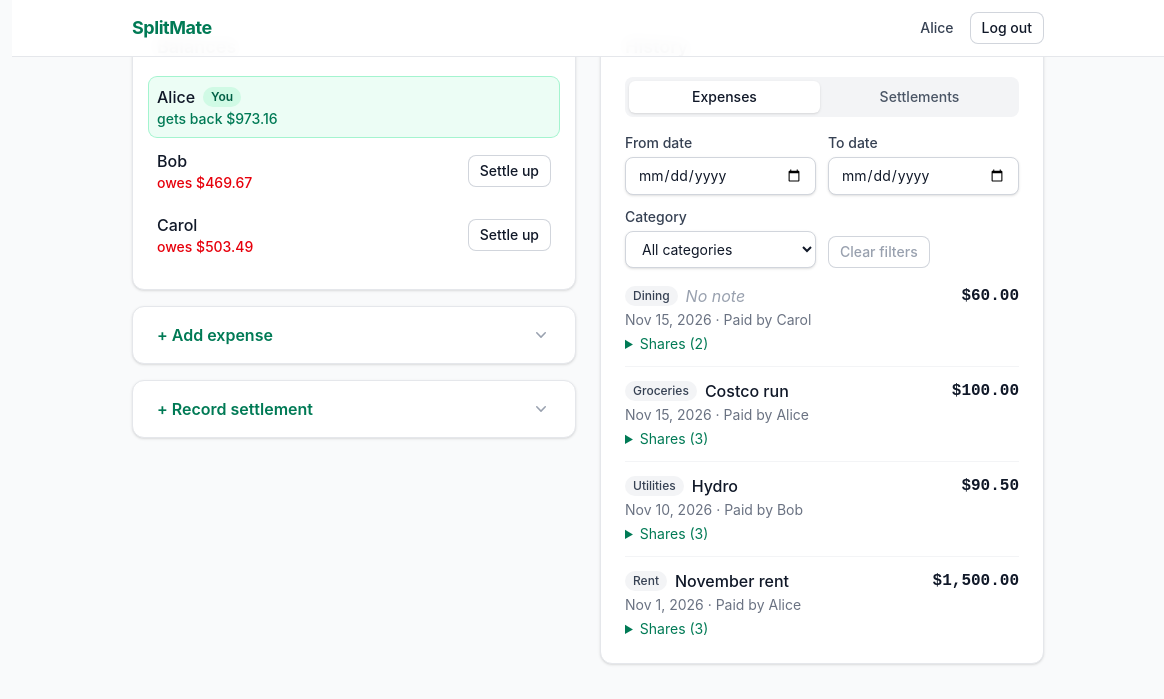
Test: Record settlement › validates the amount
(page scrolled)
expect the list named "expenses" is shown: met, box [625,284,1019,639]
Click the button "+ Record settlement" at (235, 409), box [133,381,575,437]
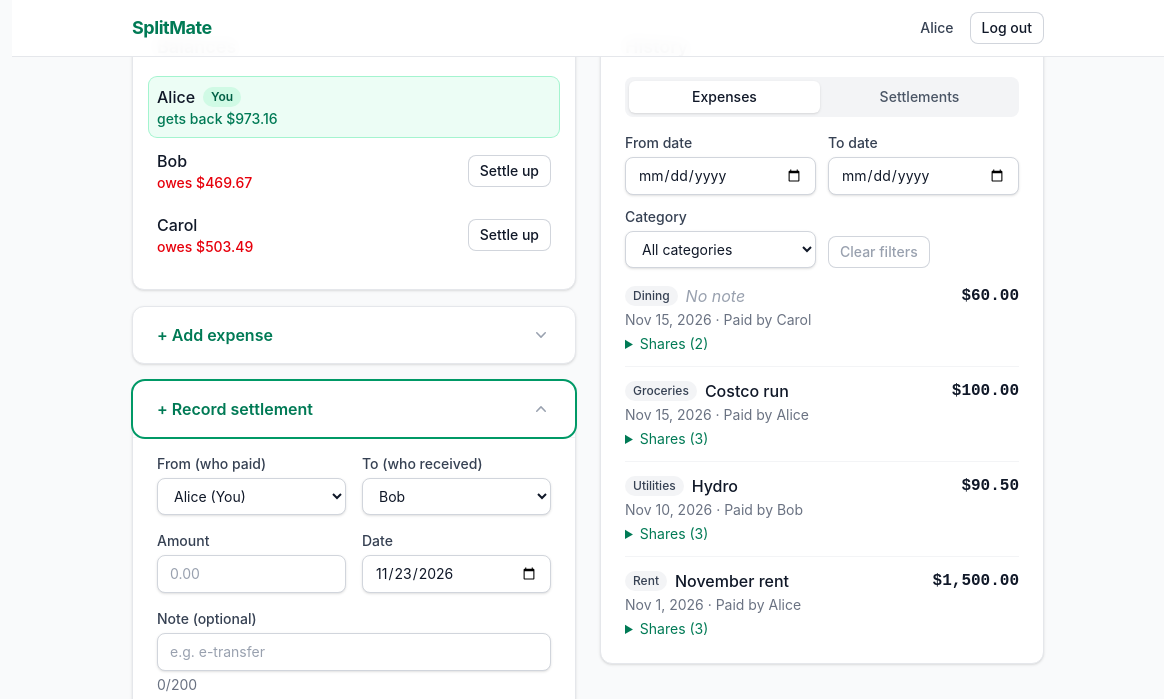
Type "0.001" into the field labelled "Amount" at (252, 574), box [157,555,346,593]
(page scrolled)
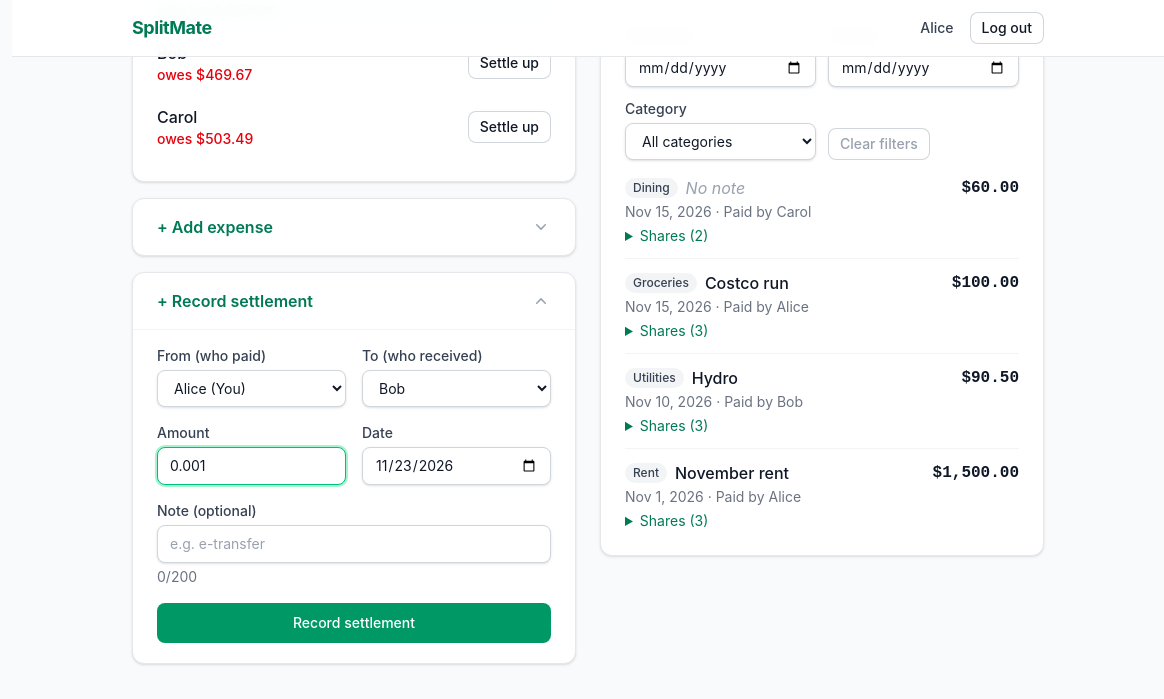
Click the button "Record settlement" at (354, 623), box [157,603,551,643]
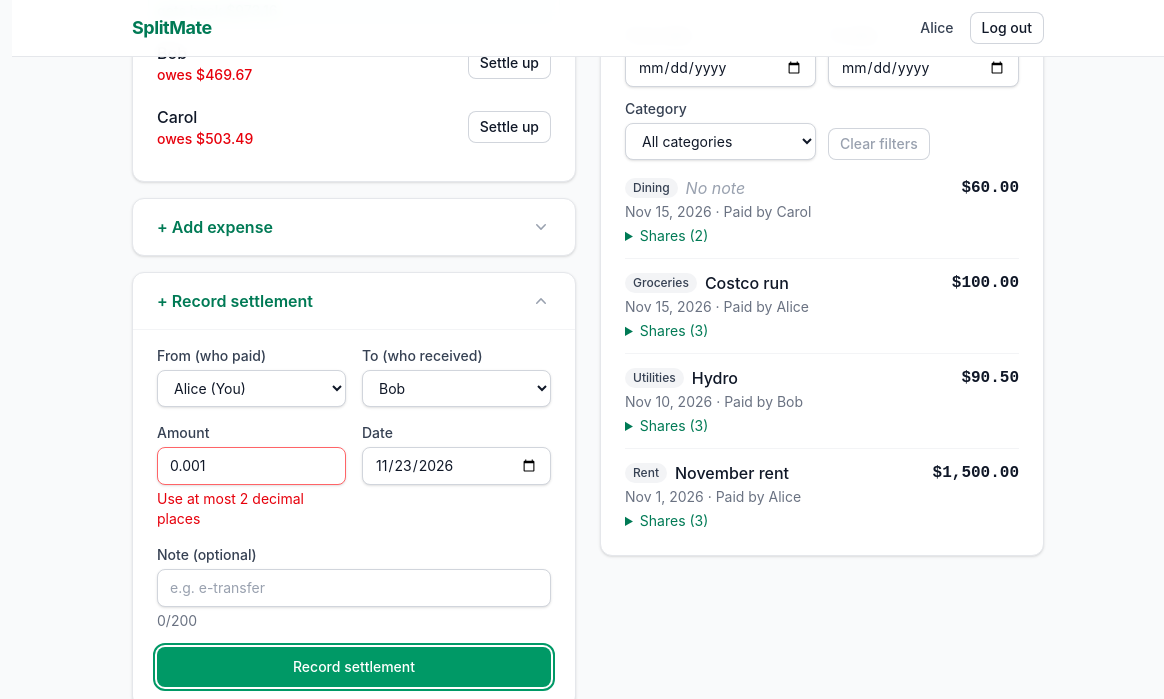
expect the text "Use at most 2 decimal places" is shown: met, box [157,490,304,527]
